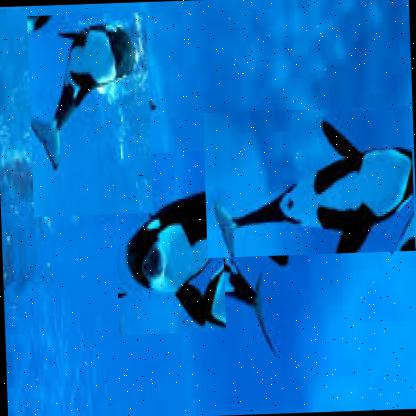killer_whale: (202, 105, 416, 258), (26, 11, 153, 217), (112, 150, 226, 336)
